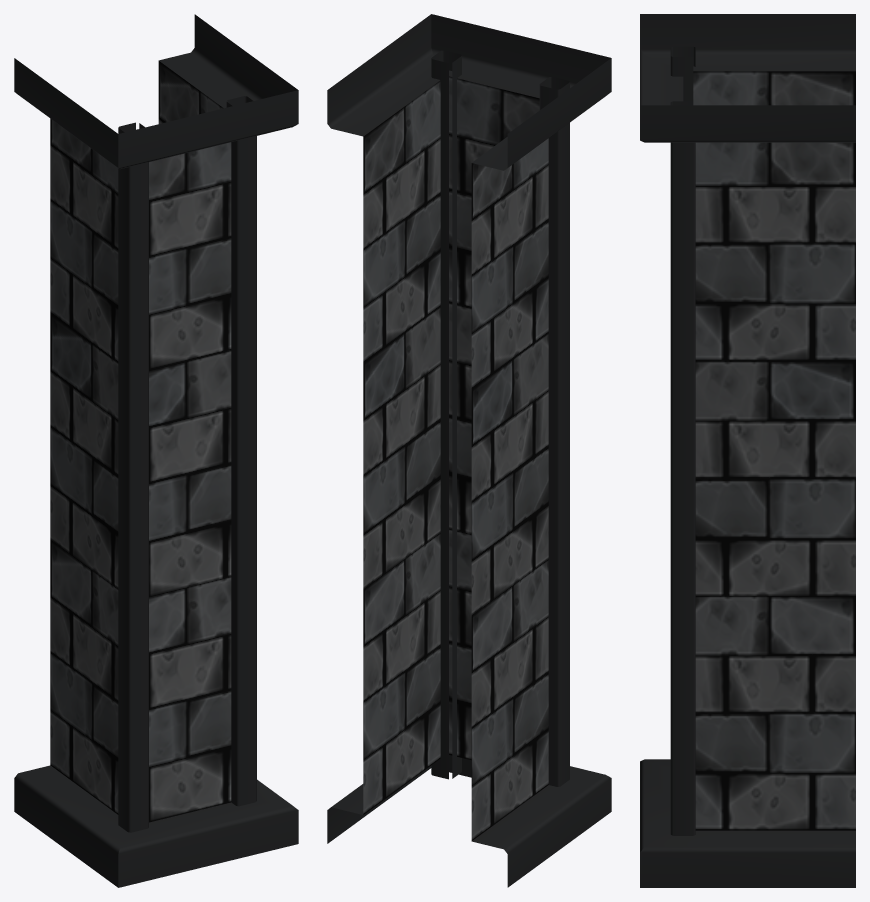
Rendered from M_Wall_Outward.fbx.
3 renders of one model, left to right at view 1: azimuth 30°, elevation 25°; view 2: azimuth 150°, elevation 25°; view 3: azimuth 270°, elevation 25°, orthographic. The views are drawn at different scales.
Visible parts, largest first — view 1: Wall_Outward; view 2: Wall_Outward; view 3: Wall_Outward.
Part boxes in pixels (x1,y1,x2,y2): Wall_Outward: [14, 14, 298, 887]; Wall_Outward: [327, 14, 611, 887]; Wall_Outward: [640, 14, 855, 887].
Size of the model in its own units: 100 by 400 by 100.
